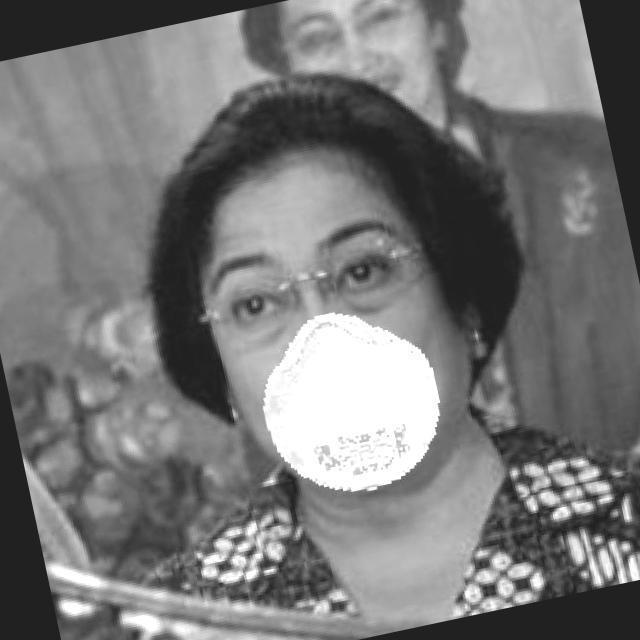no_gloves: (109, 83, 518, 294)
